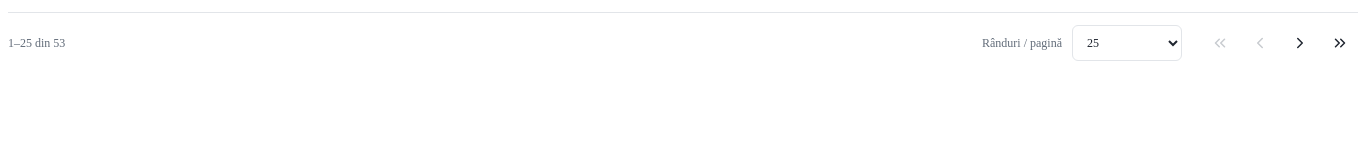
Scenario: navigates bounded pages with accessible icon controls and resets for a new size
Expected: the text "1–25 din 53" is shown, [8, 34, 65, 52]
Expected: the button named "Prima pagină" is disabled, [1202, 25, 1238, 61]
Click the button named "Ultima pagină" at coordinates (1340, 43), box [1322, 25, 1358, 61]
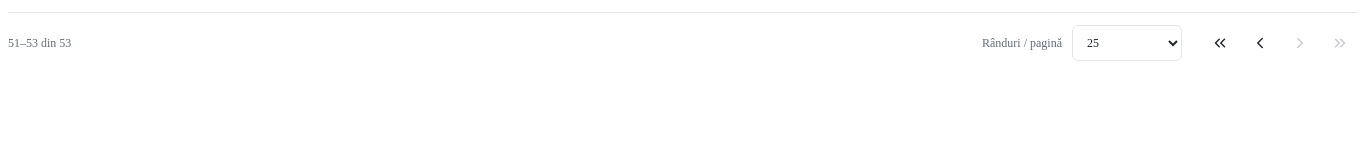
Expected: the button named "Pagina următoare" is disabled, [1282, 25, 1318, 61]
Now the text "51–53 din 53" is shown, box [8, 34, 71, 52]
Select "10" in the dropdown named "Rânduri pe pagină" at coordinates (1127, 43), box [1072, 25, 1182, 61]
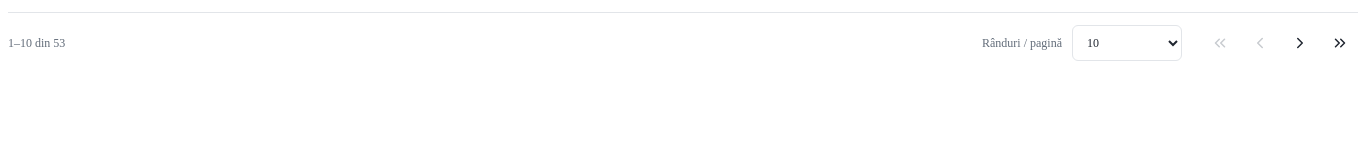
Now the text "1–10 din 53" is shown, box [8, 34, 65, 52]
